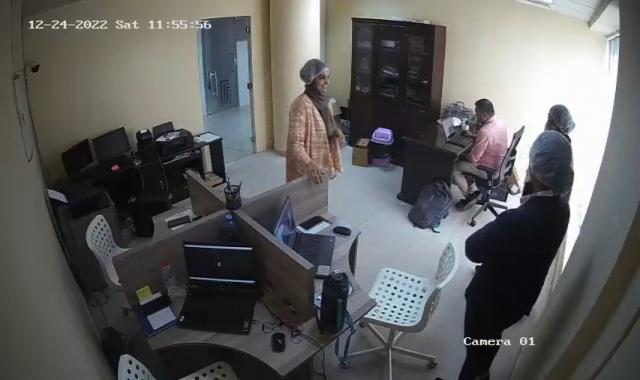hairnet: (528, 132, 574, 197), (300, 58, 334, 96), (546, 102, 576, 141)
no_hairnet: (474, 97, 494, 128)
